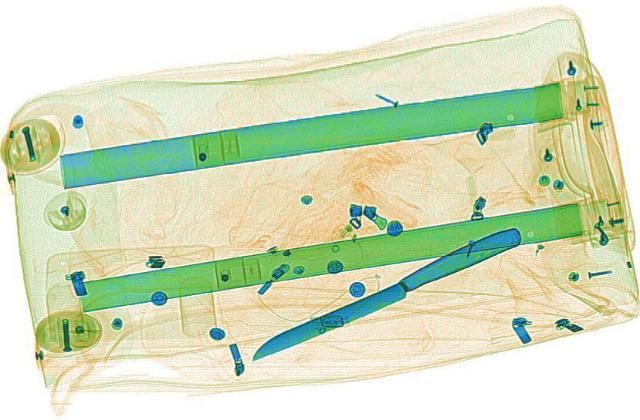Knife: (233, 222, 533, 361)
